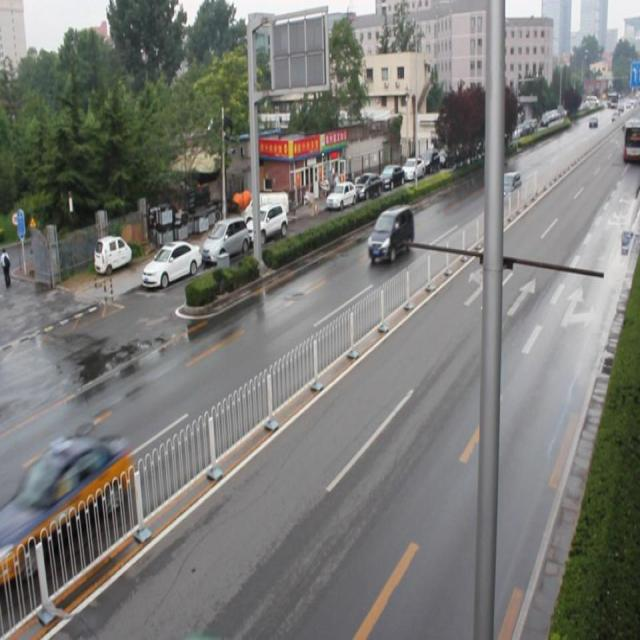car: (10, 436, 130, 575), (367, 204, 412, 262), (490, 170, 521, 206)
